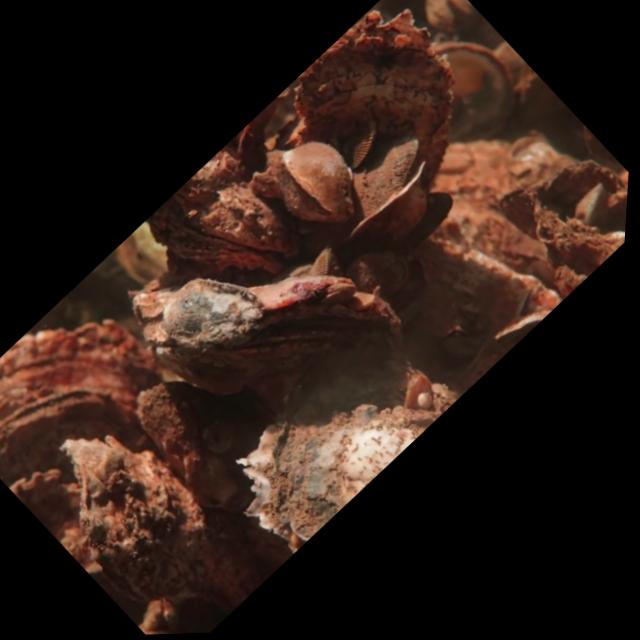Oyster-Closed: (233, 335, 461, 552), (56, 432, 260, 606), (128, 271, 411, 388), (291, 2, 459, 189), (139, 152, 306, 273), (0, 380, 152, 479), (11, 468, 99, 579), (273, 137, 359, 230), (351, 134, 426, 232), (356, 174, 433, 245), (260, 272, 359, 314), (327, 98, 379, 172), (567, 179, 613, 229), (304, 243, 347, 275), (348, 285, 380, 311)
Oyster-Indeterminate: (137, 376, 278, 506), (0, 318, 163, 405), (496, 154, 628, 240), (156, 274, 266, 354), (346, 248, 411, 296)
